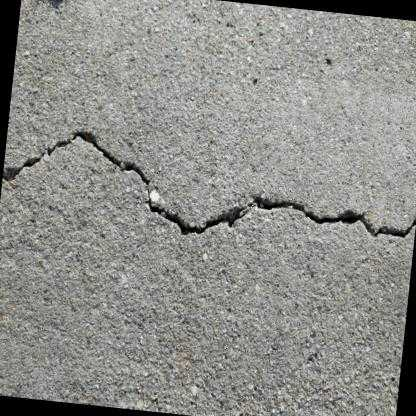crack: (2, 128, 416, 240)
